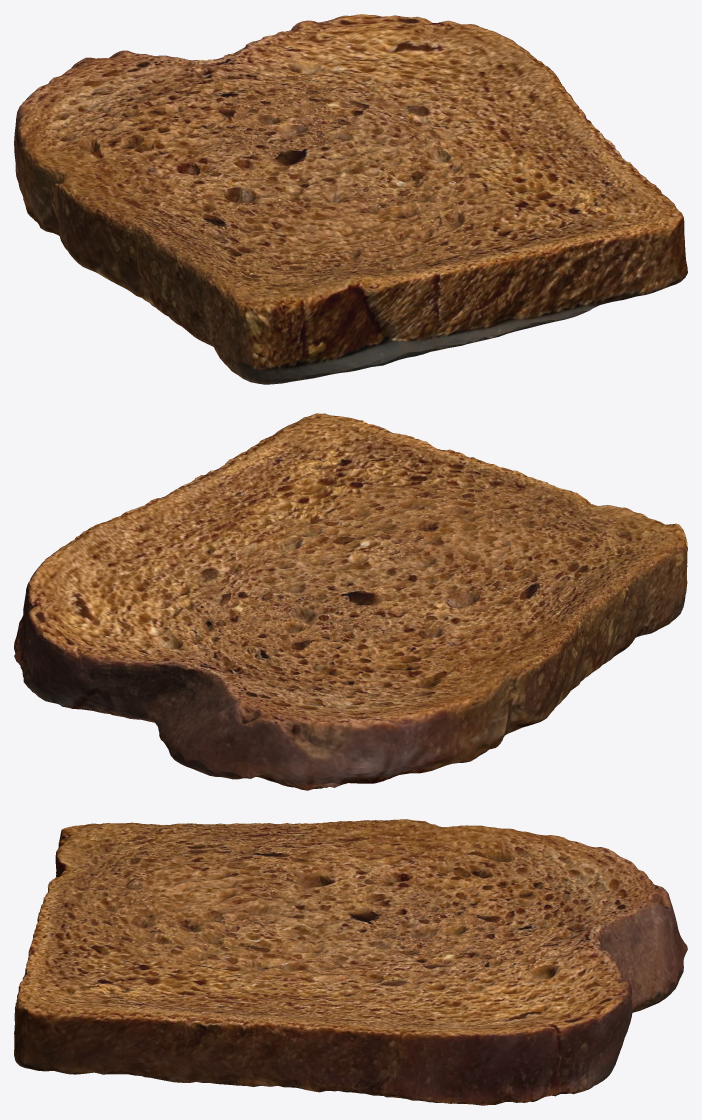
The model's file is Pumpernickel_C.glb.
3 renders of one model, top to bottom at view 1: azimuth 30°, elevation 25°; view 2: azimuth 150°, elevation 25°; view 3: azimuth 270°, elevation 25°, orthographic. The views are drawn at different scales.
Bounding box in the file's own units: 0.1124 × 0.0204 × 0.1355.
1 material, 1 textured.
